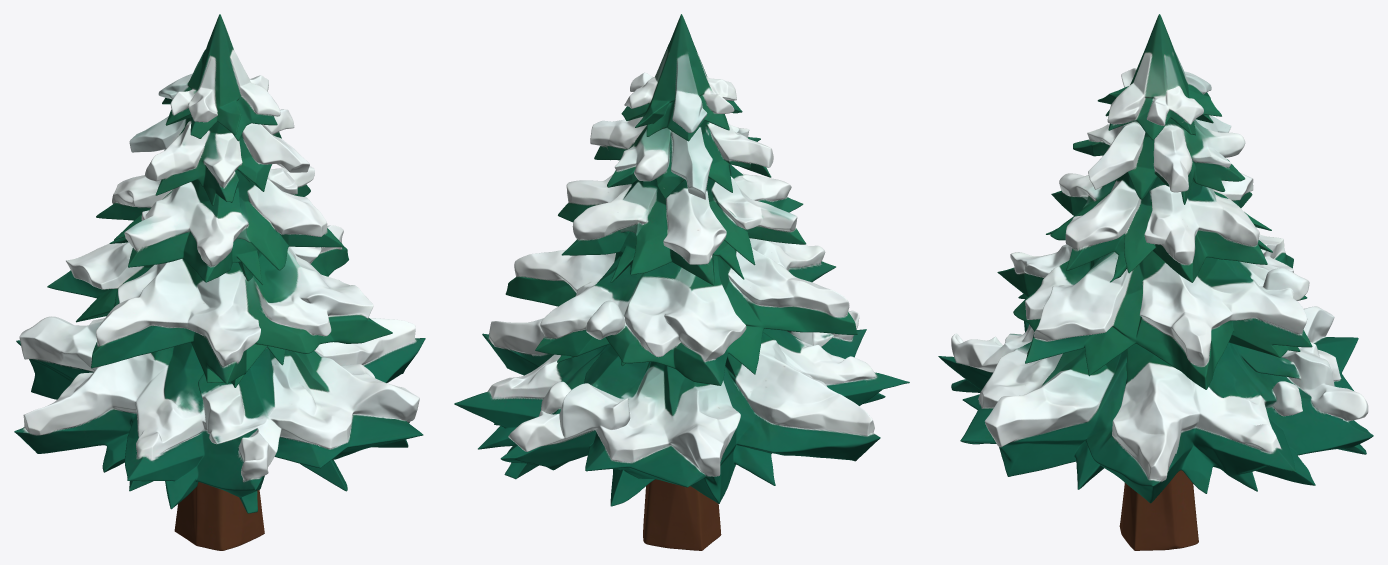
File: Tundra_Env_Pine.glb
The picture shows the model from 3 angles, left to right: view 1: azimuth 30°, elevation 25°; view 2: azimuth 150°, elevation 25°; view 3: azimuth 270°, elevation 25°; orthographic projection.
Parts seen in each view (by area): view 1: tripo_node_1fbdd2a5-a3d2-4254-a340-6da25658f305; view 2: tripo_node_1fbdd2a5-a3d2-4254-a340-6da25658f305; view 3: tripo_node_1fbdd2a5-a3d2-4254-a340-6da25658f305.
Boxes of the visible parts, left/top/right/bottom form: tripo_node_1fbdd2a5-a3d2-4254-a340-6da25658f305: left=14, top=14, right=425, bottom=550; tripo_node_1fbdd2a5-a3d2-4254-a340-6da25658f305: left=454, top=14, right=909, bottom=550; tripo_node_1fbdd2a5-a3d2-4254-a340-6da25658f305: left=938, top=14, right=1373, bottom=550.
Size of the model in its own units: 0.8157 by 1 by 0.7569.
1 material, 1 textured.
